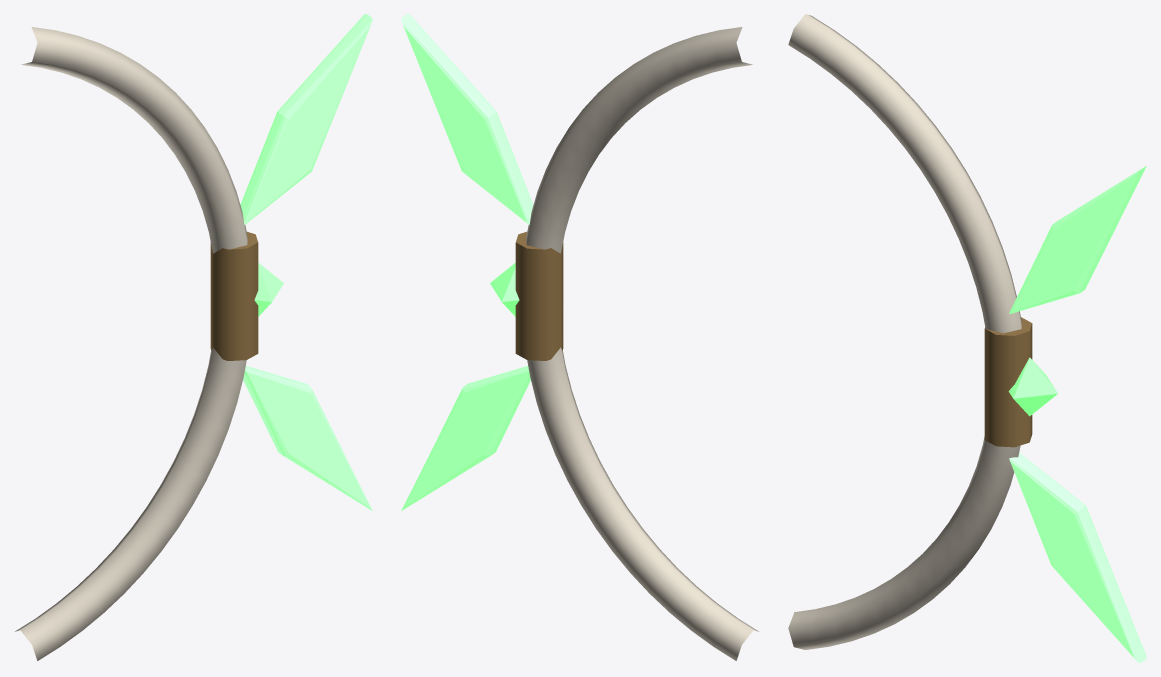
File: bow_f3_a3d91760.glb
The picture shows the model from 3 angles, left to right: view 1: azimuth 30°, elevation 25°; view 2: azimuth 150°, elevation 25°; view 3: azimuth 330°, elevation 25°; orthographic projection.
Parts seen in each view (by area): view 1: m0_ow80_, m2_, m1_, m3_ow80_, m4_; view 2: m0_ow80_, m2_, m1_, m3_ow80_, m4_; view 3: m0_ow80_, m1_, m2_, m3_ow80_, m4_.
Part boxes in pixels (left/top/right/bottom): m0_ow80_: left=15, top=27, right=247, bottom=660; m2_: left=240, top=14, right=372, bottom=224; m1_: left=243, top=366, right=372, bottom=510; m3_ow80_: left=210, top=231, right=258, bottom=360; m4_: left=254, top=263, right=283, bottom=316; m0_ow80_: left=526, top=27, right=758, bottom=660; m2_: left=401, top=14, right=533, bottom=224; m1_: left=401, top=366, right=530, bottom=510; m3_ow80_: left=515, top=231, right=563, bottom=360; m4_: left=490, top=263, right=519, bottom=316; m0_ow80_: left=788, top=14, right=1021, bottom=649; m1_: left=1009, top=453, right=1146, bottom=662; m2_: left=1009, top=166, right=1146, bottom=313; m3_ow80_: left=984, top=317, right=1032, bottom=447; m4_: left=1008, top=357, right=1057, bottom=416.
Bounding box in the file's own units: 0.9831 × 1.71 × 0.16.
